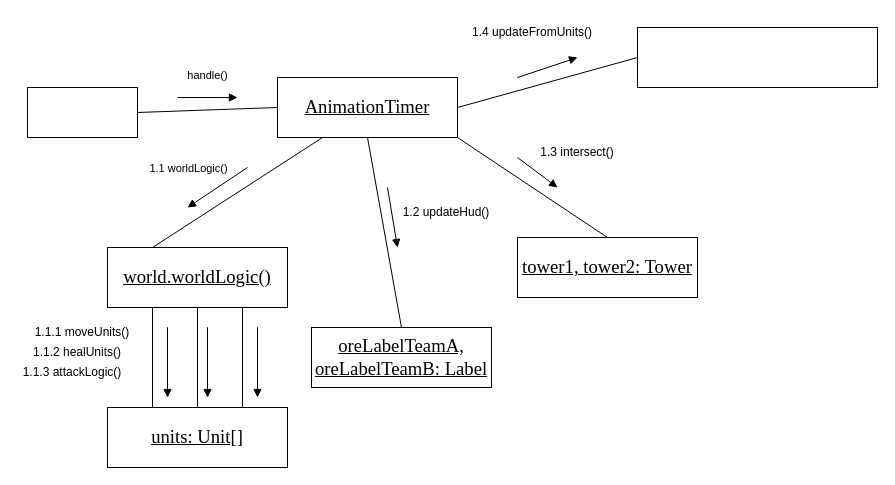
The diagram is 895 pixels wide and 485 high, and some of its shapes have lost their labels. Here are the shapes that lost their labels. From the top down, the centre of each, then its label:
At pixel 757 57: "unitInventorWindow: UnitInvetorWindow".
At pixel 82 112: "JavaFX".
